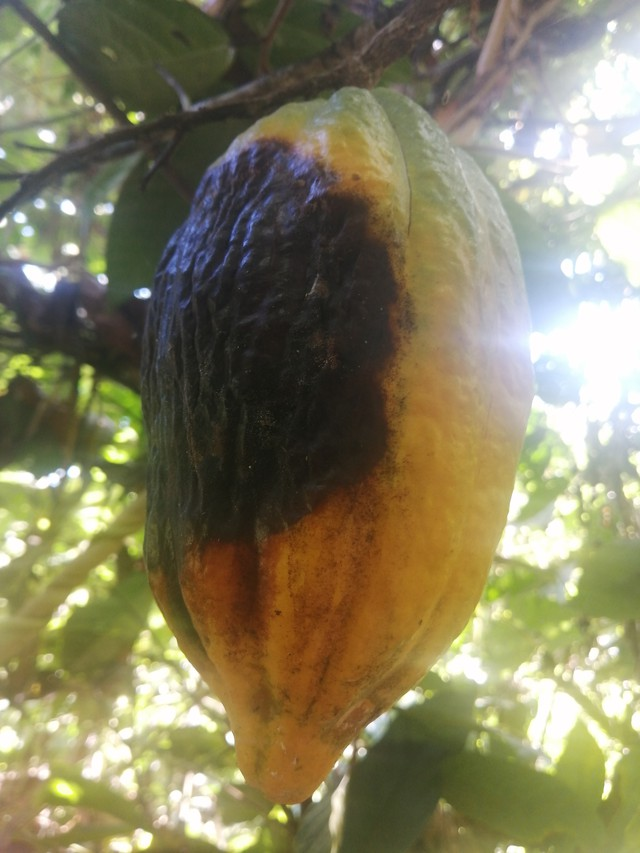phytophthora palmivora: (115, 76, 557, 815)
